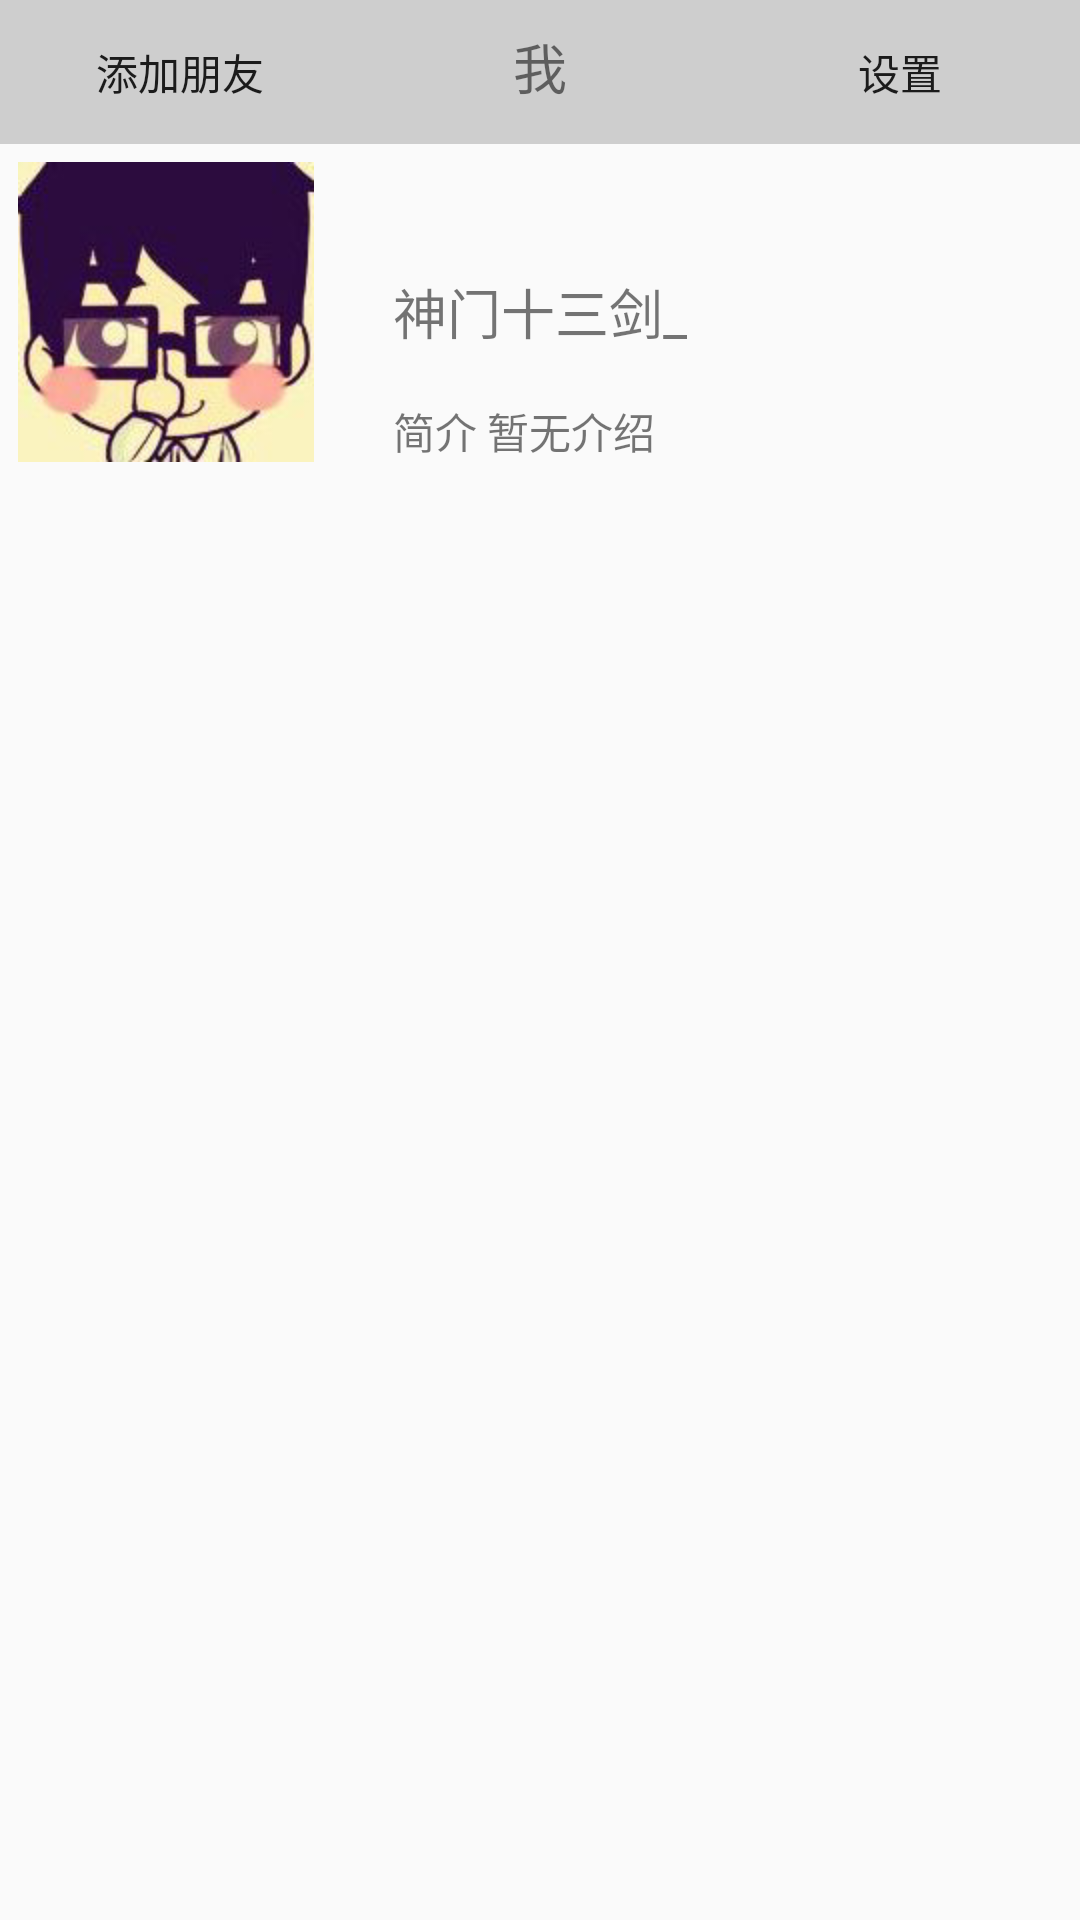

Screen size 1080w x 1920h. Icon name, then its center in pixels as [x,y]:
touxiang: [166,312]
